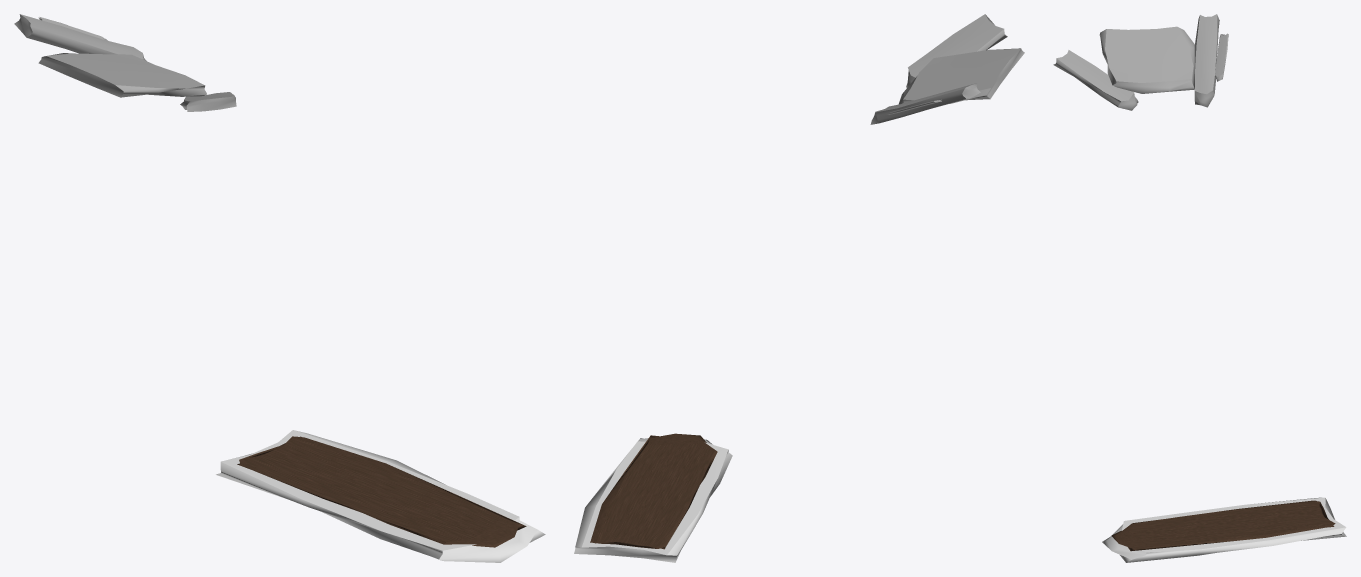
The model's file is brokenCeiling.fbx.
3 views of the same model, side by side, from view 1: azimuth 30°, elevation 25°; view 2: azimuth 150°, elevation 25°; view 3: azimuth 270°, elevation 25° (orthographic). The views are drawn at different scales.
Parts seen in each view (by area): view 1: pCube122, pCube121, pCube119, pCube120, pCube118; view 2: pCube122, pCube121, pCube119, pCube118, pCube120; view 3: pCube122, pCube119, pCube121, pCube120, pCube118, pCube123.
Boxes of the visible parts, box(x1,y1,x2,y2) form: pCube122: box(237, 436, 526, 547); pCube121: box(216, 430, 545, 562); pCube119: box(38, 53, 206, 97); pCube120: box(14, 14, 146, 60); pCube118: box(180, 92, 236, 111); pCube122: box(590, 433, 717, 549); pCube121: box(574, 438, 732, 562); pCube119: box(898, 48, 1024, 104); pCube118: box(906, 14, 1007, 87); pCube120: box(870, 83, 980, 124); pCube122: box(1111, 500, 1335, 551); pCube119: box(1099, 26, 1194, 93); pCube121: box(1102, 497, 1346, 562); pCube120: box(1194, 14, 1219, 107); pCube118: box(1053, 50, 1138, 110); pCube123: box(1215, 33, 1228, 81).
Bounding box in the file's own units: 10.55 × 12.68 × 8.48.
